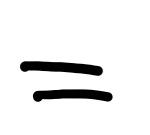eqv: (17, 56, 115, 103)
